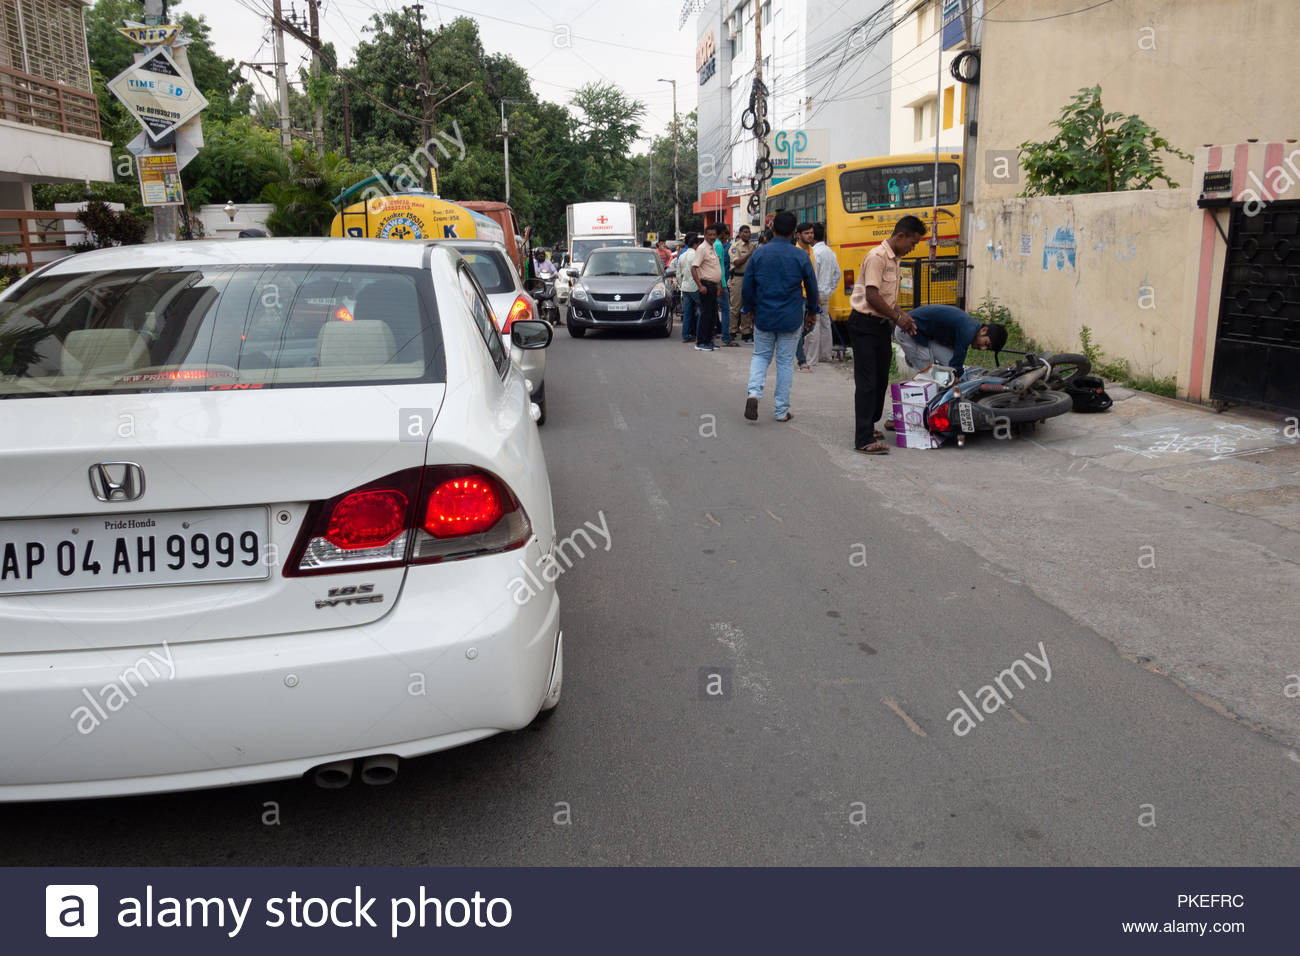number_plate: (1, 503, 277, 597)
